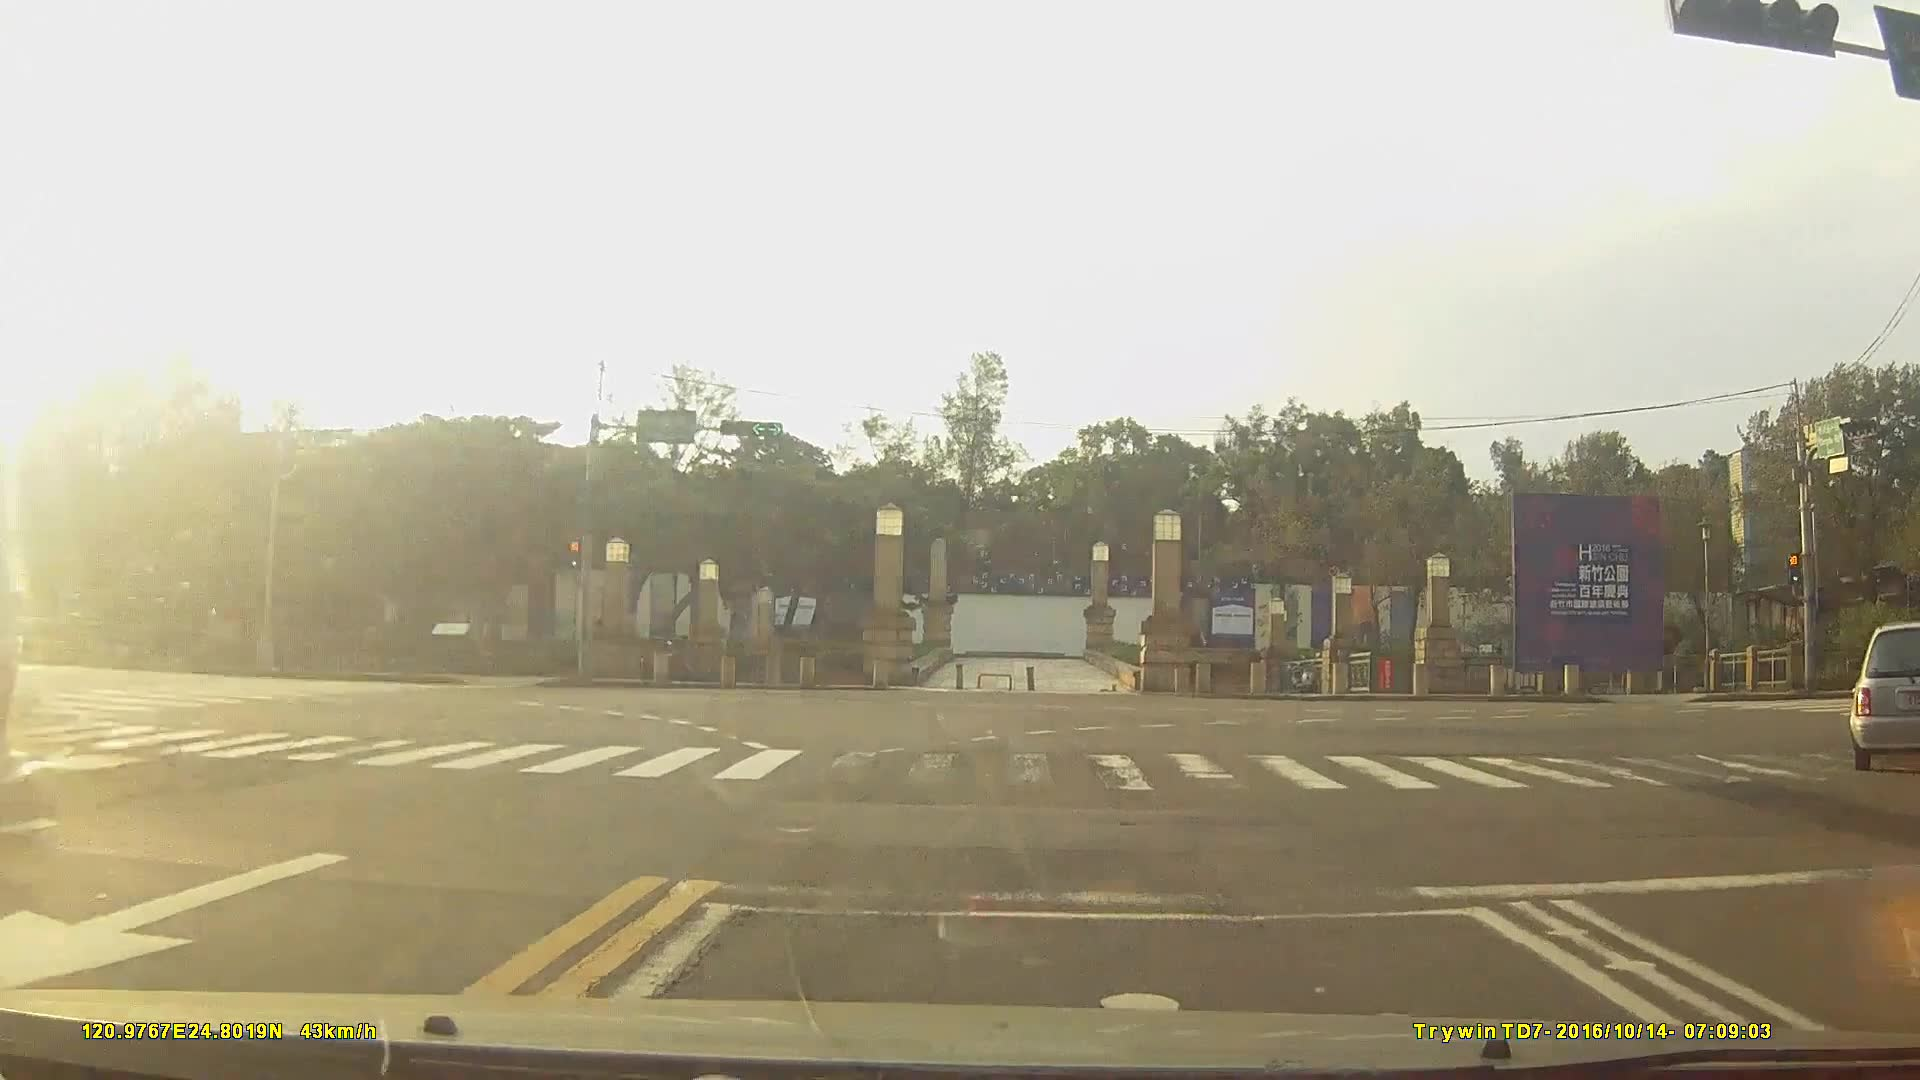vehicle: (1851, 620, 1920, 767)
